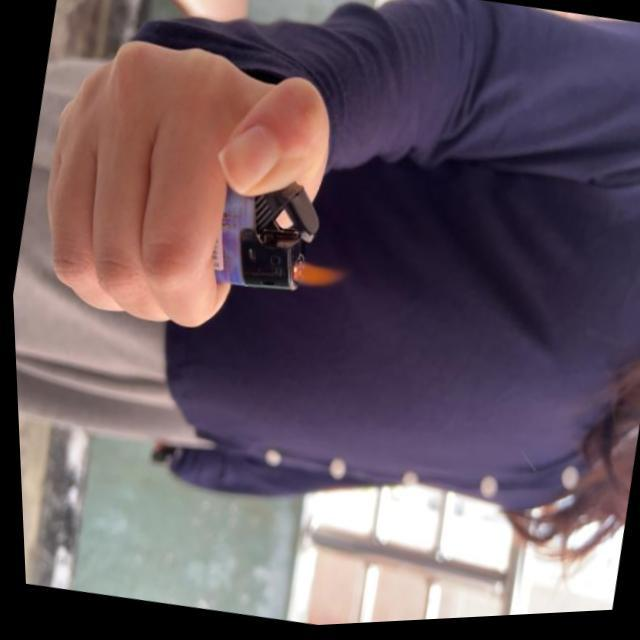fire: (284, 258, 348, 300)
